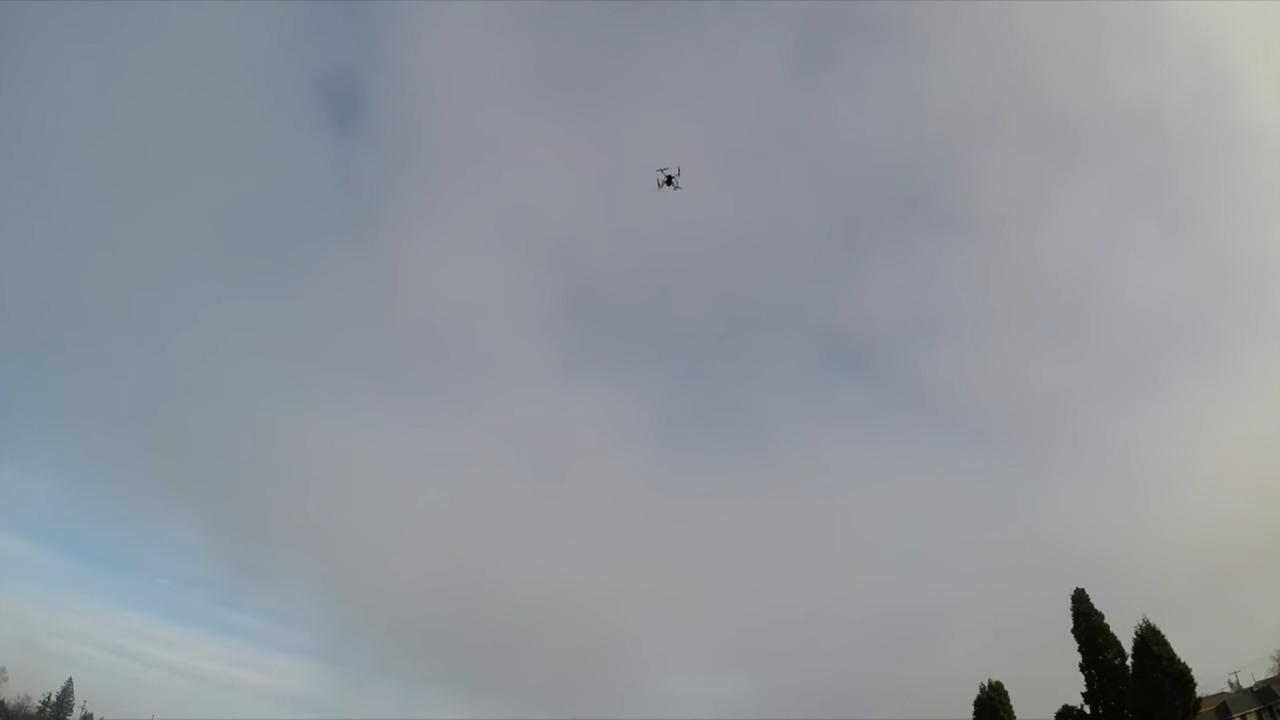Drone: (647, 157, 690, 200)
